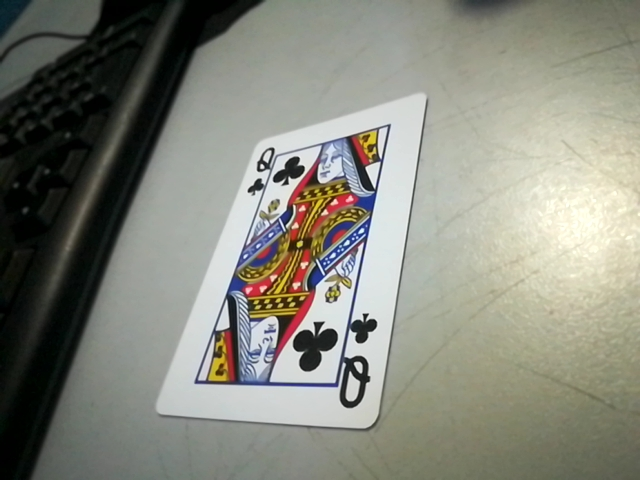mh q: (335, 312, 385, 421)
